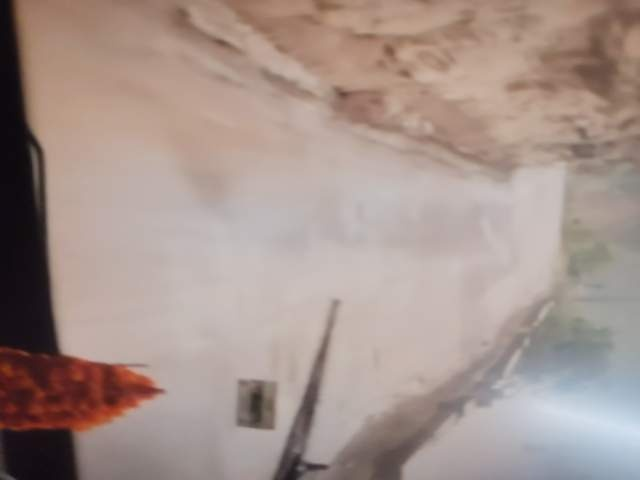pothole: (204, 311, 304, 391)
